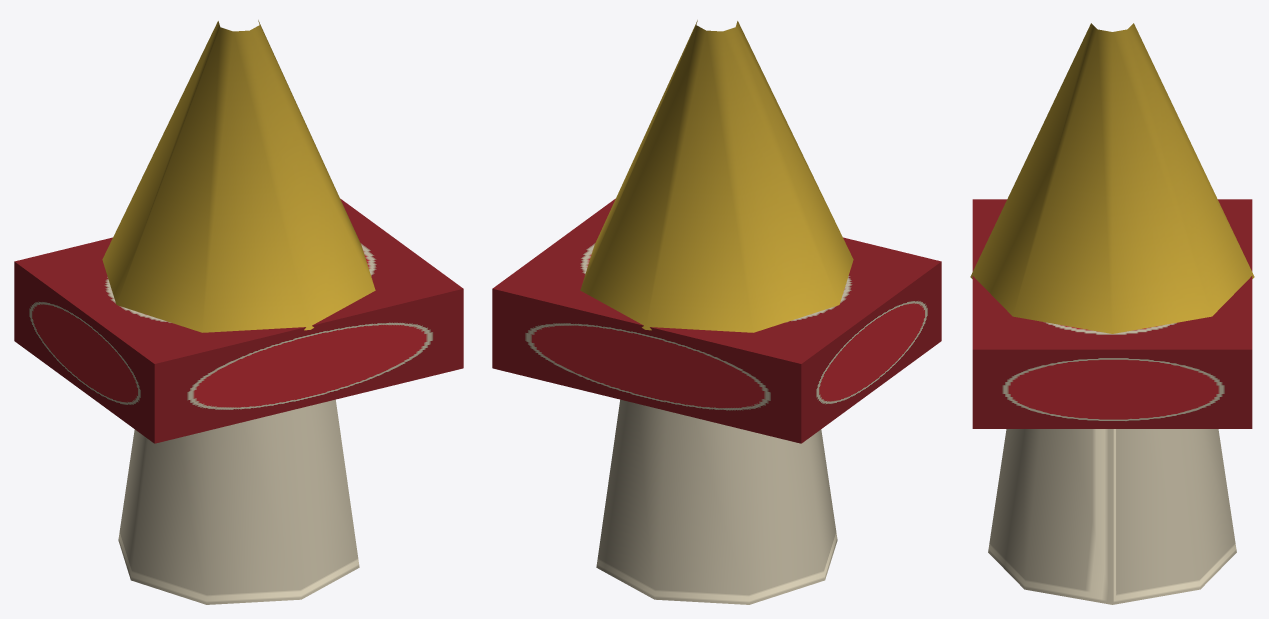
File: ITEM_RELIQUARY_RELIC.glb
The picture shows the model from 3 angles, left to right: view 1: azimuth 30°, elevation 25°; view 2: azimuth 150°, elevation 25°; view 3: azimuth 270°, elevation 25°; orthographic projection.
Visible parts, largest first — view 1: ITEM_RELIQUARY_RELIC; view 2: ITEM_RELIQUARY_RELIC; view 3: ITEM_RELIQUARY_RELIC.
Part boxes in pixels (x1=…): ITEM_RELIQUARY_RELIC: x1=14, y1=20, x2=463, y2=604; ITEM_RELIQUARY_RELIC: x1=492, y1=20, x2=941, y2=604; ITEM_RELIQUARY_RELIC: x1=970, y1=23, x2=1254, y2=604.
Size of the model in its own units: 0.28 by 0.46 by 0.224.
Materials: 1 (1 with a texture image).
